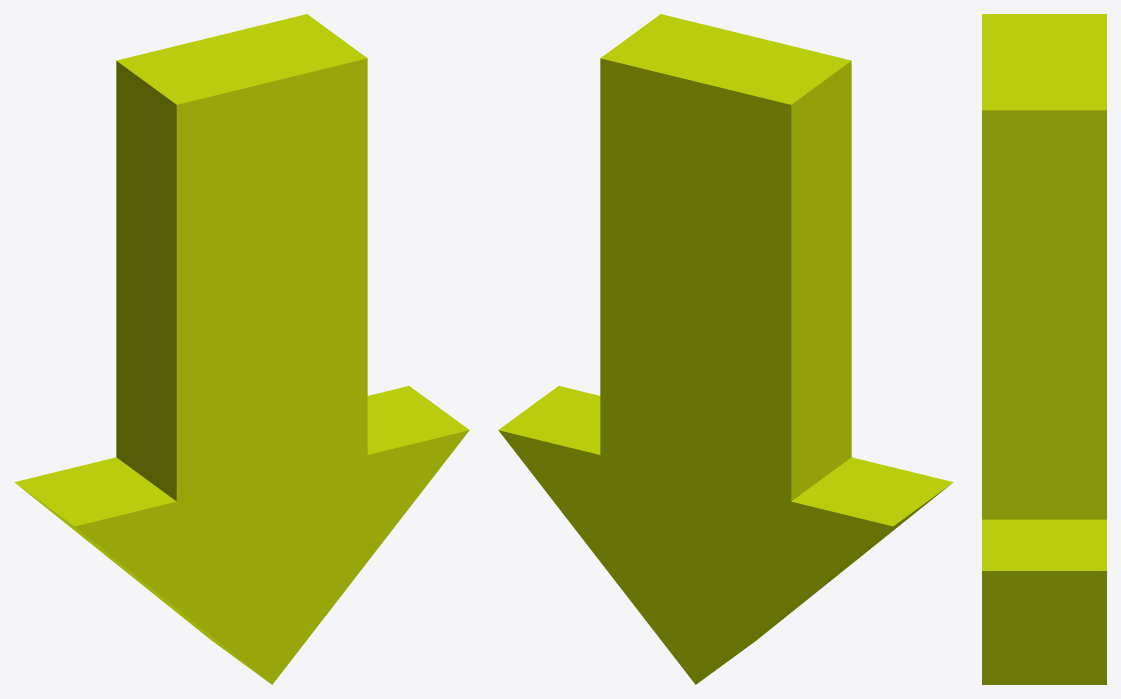
The model's file is arrow.fbx.
3 renders of one model, left to right at view 1: azimuth 30°, elevation 25°; view 2: azimuth 150°, elevation 25°; view 3: azimuth 270°, elevation 25°, orthographic. The views are drawn at different scales.
Visible parts, largest first — view 1: Cube; view 2: Cube; view 3: Cube.
Boxes of the visible parts, x1,y1,x2,y2 form: Cube: (14,14,469,684); Cube: (498,14,953,684); Cube: (982,14,1106,684).
Size of the model in its own units: 283 by 413 by 75.08.
